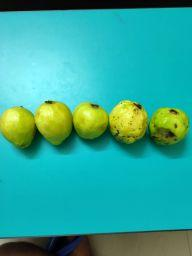guava: (108, 98, 149, 147), (0, 101, 37, 154), (148, 105, 191, 149), (37, 99, 74, 148), (72, 100, 109, 141)
